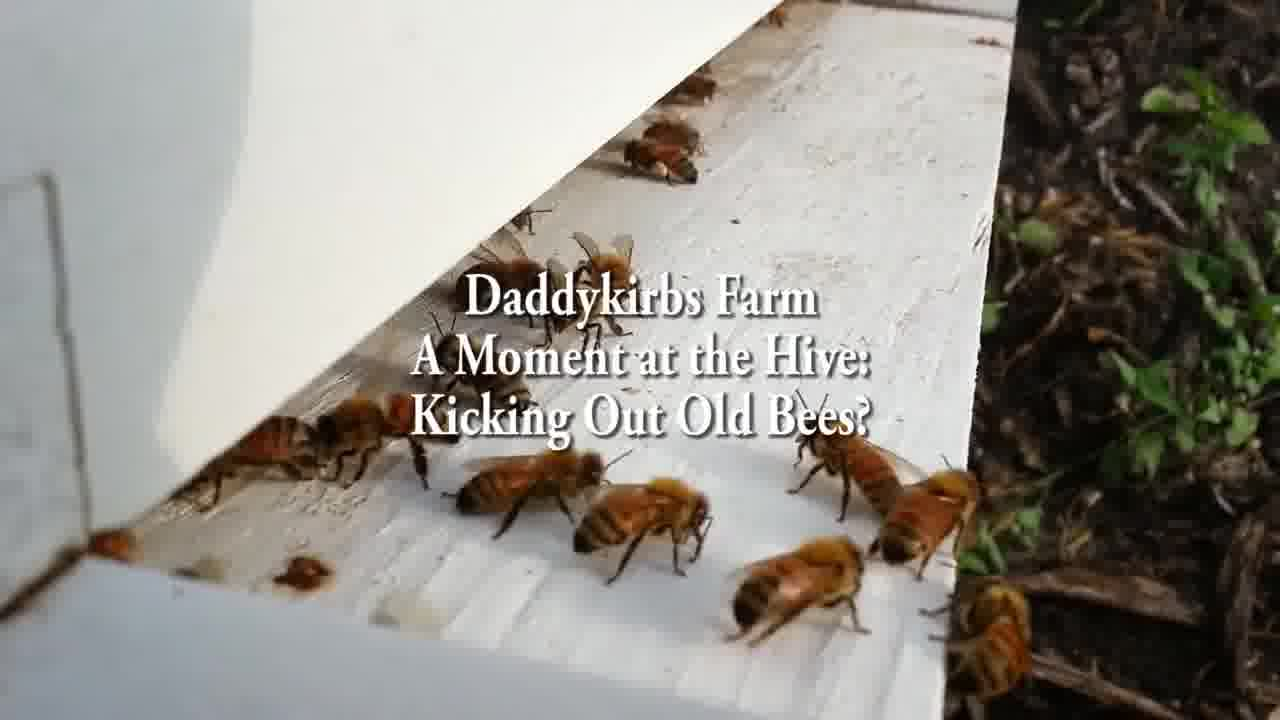pollen: (619, 137, 699, 189)
